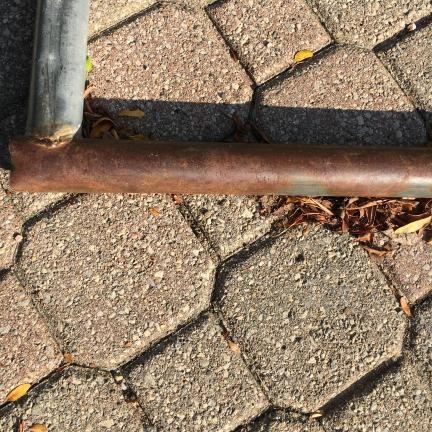besi_tidak_karat: (27, 0, 89, 146)
karat: (10, 137, 431, 197)
